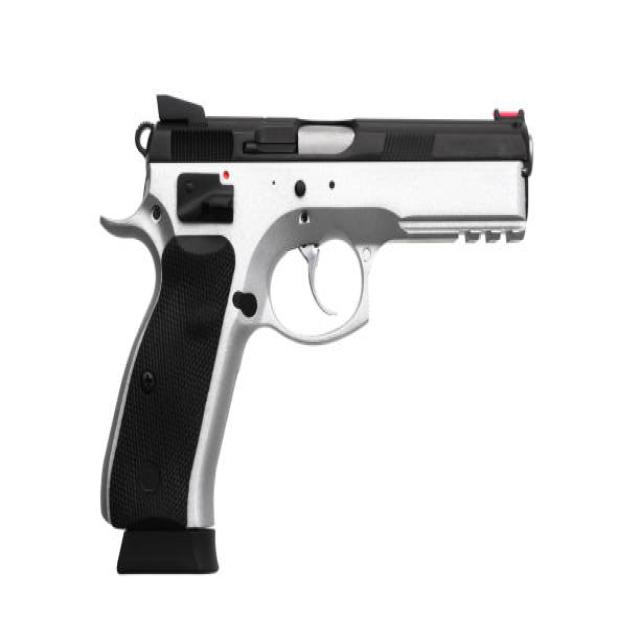pistol: (95, 86, 538, 588)
